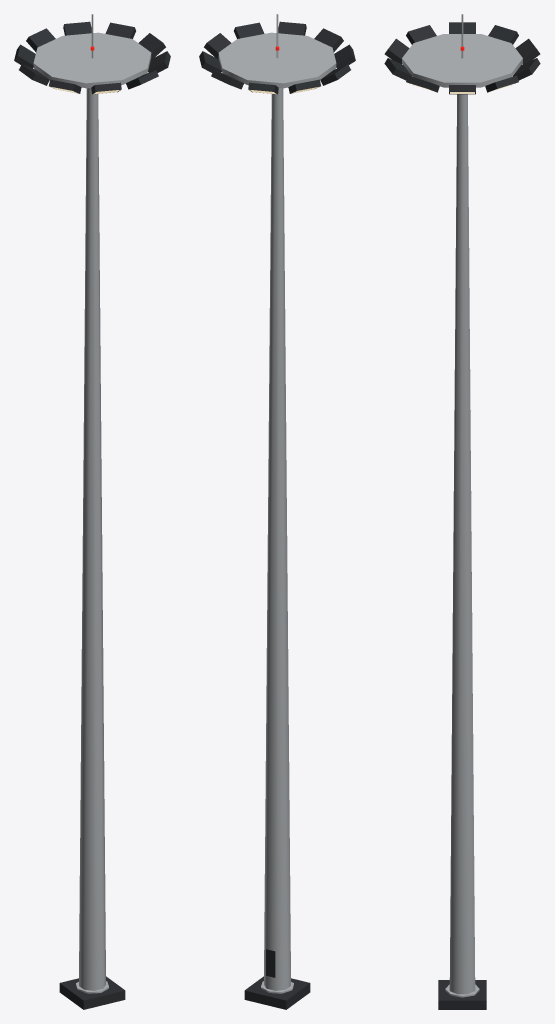
The model's file is apron_flood_mast.glb.
3 views of the same model, side by side, from view 1: azimuth 30°, elevation 25°; view 2: azimuth 150°, elevation 25°; view 3: azimuth 270°, elevation 25° (orthographic).
Parts seen in each view (by area): view 1: LOD0; view 2: LOD0; view 3: LOD0.
Part boxes in pixels (<box>): LOD0: <box>14,14,170,1009</box>; LOD0: <box>199,14,355,1009</box>; LOD0: <box>384,14,540,1009</box>.
Bounding box in the file's own units: 4.5 × 31.44 × 4.52.
3 materials, 1 textured.
